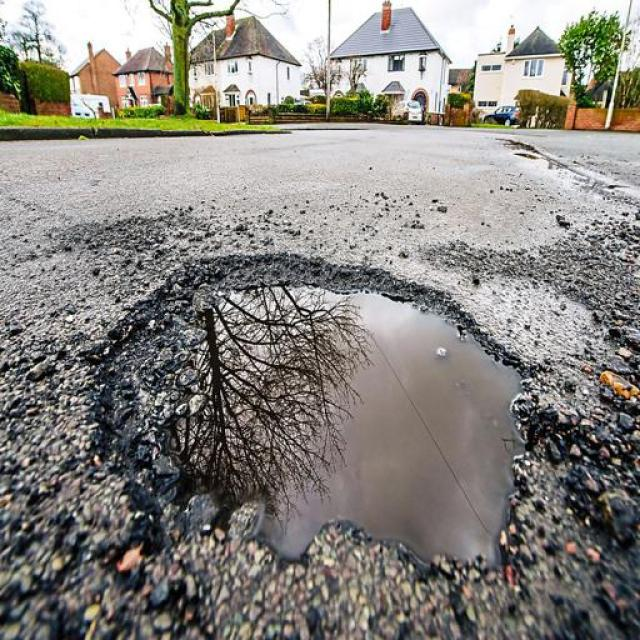puddle: (219, 290, 520, 592)
